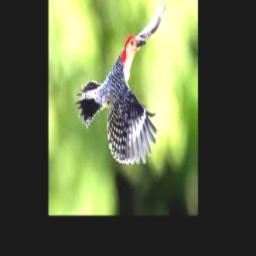Woodpecker: (77, 0, 166, 164)
